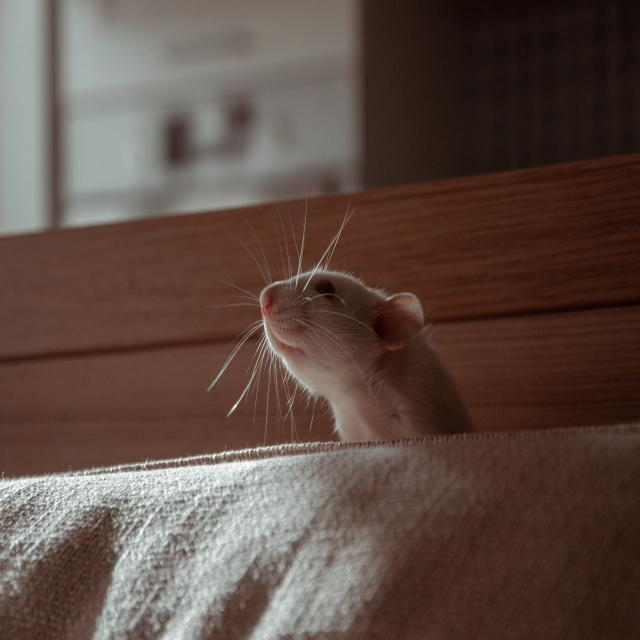rat: (227, 205, 474, 442)
